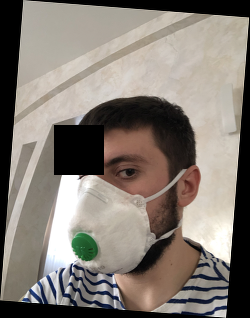with_mask: (67, 143, 167, 276)
